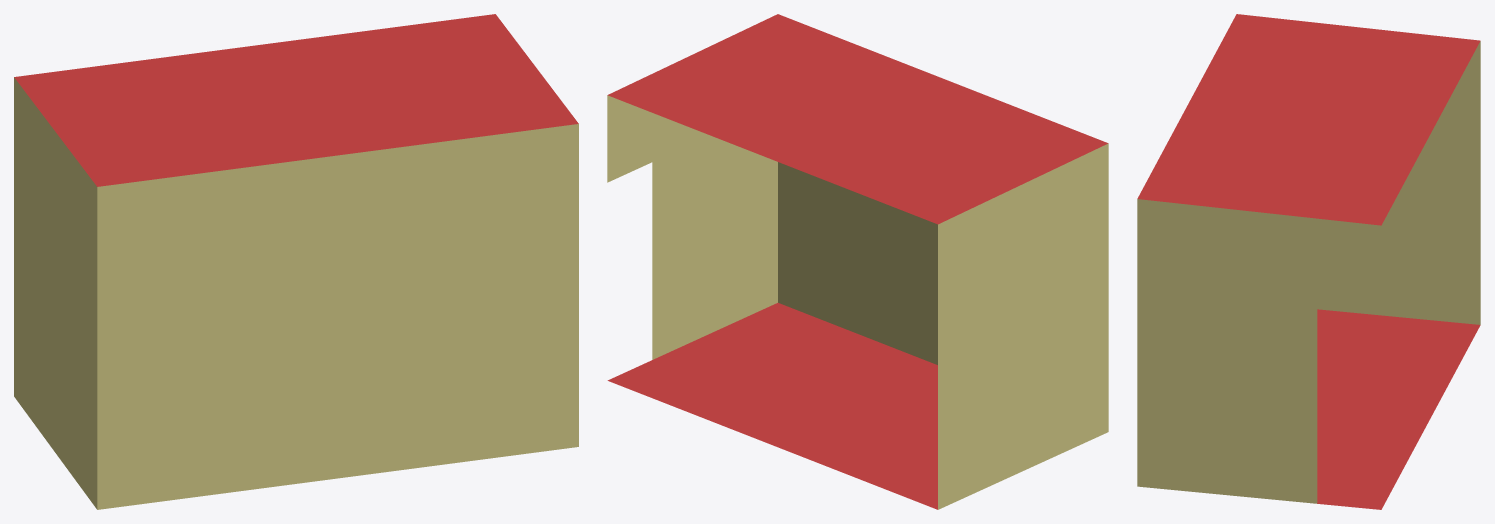
3 views of the same model, side by side, from view 1: azimuth 30°, elevation 25°; view 2: azimuth 150°, elevation 25°; view 3: azimuth 270°, elevation 25° (orthographic). The views are drawn at different scales.
Parts seen in each view (by area): view 1: group_4, group_3; view 2: group_4, group_3, group_5; view 3: group_4, group_3, group_5.
Part boxes in pixels (box(x1,y1,x2,y2)): group_4: box(14, 77, 578, 509); group_3: box(14, 14, 578, 186); group_4: box(607, 95, 1108, 509); group_3: box(607, 14, 1108, 224); group_5: box(607, 303, 937, 509); group_4: box(1137, 41, 1480, 503); group_3: box(1137, 14, 1480, 225); group_5: box(1317, 309, 1480, 509).
Size of the model in its own units: 11.1 by 7.73 by 7.14.
